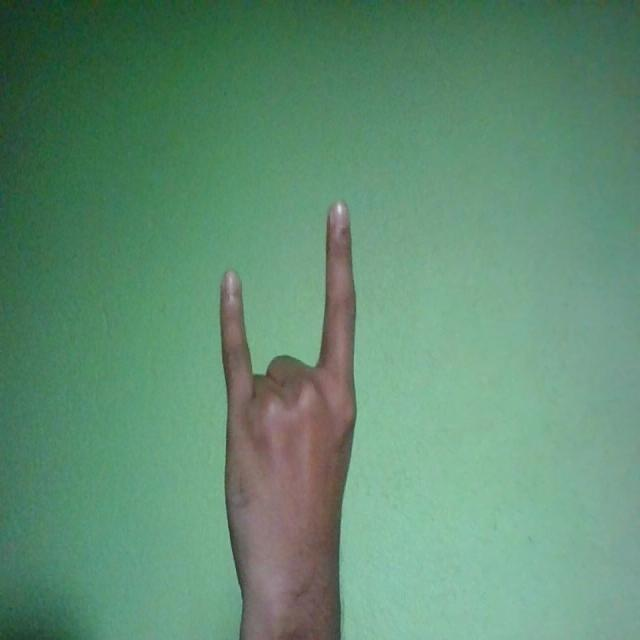open Plam: (219, 198, 357, 631)
